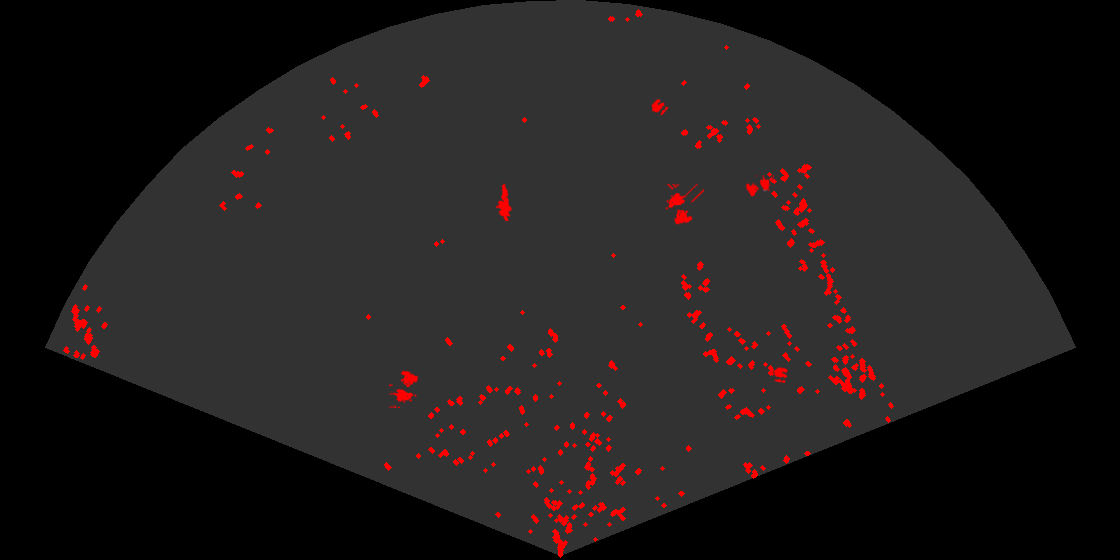ball: (650, 97, 670, 117), (772, 365, 789, 385)
cage: (664, 184, 704, 226), (389, 369, 420, 408), (744, 175, 774, 198)
frogman: (494, 181, 514, 221)
